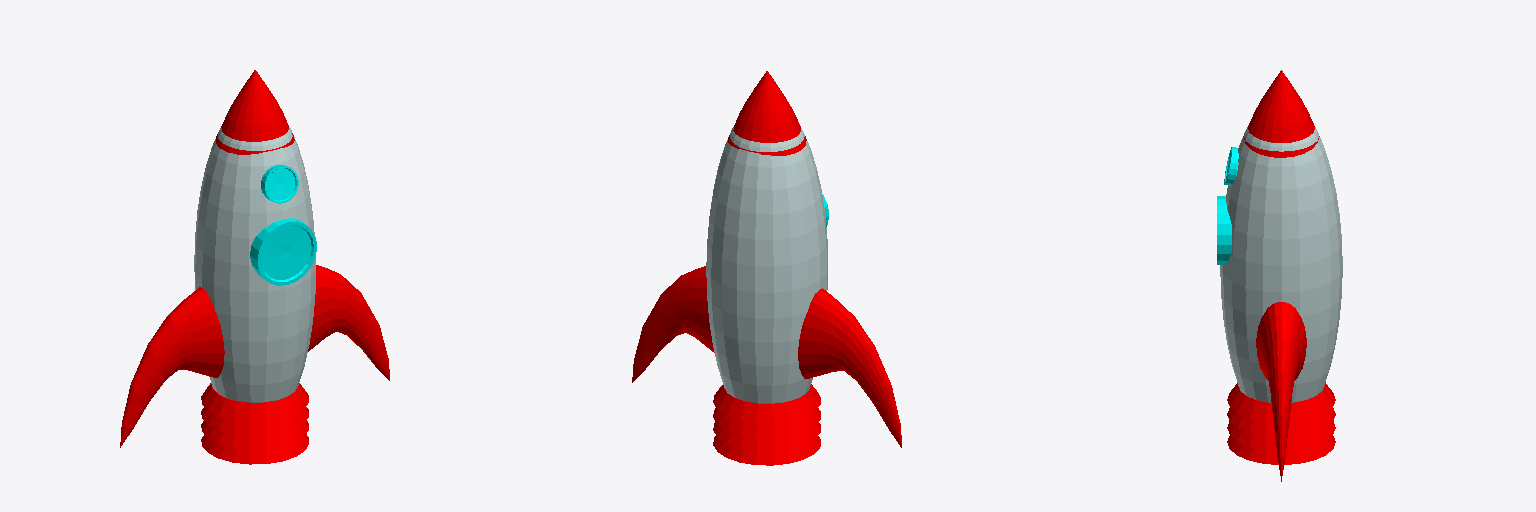
The model's file is cohete.obj.
3 views of the same model, side by side, from view 1: azimuth 30°, elevation 25°; view 2: azimuth 150°, elevation 25°; view 3: azimuth 270°, elevation 25° (orthographic).
Parts seen in each view (by area): view 1: pSphere1, pCone3, pCone2, pCylinder8, pCone1, pCylinder9, pCylinder10, pCylinder5, pCylinder4, pCylinder7; view 2: pSphere1, pCone3, pCone2, pCone1, pCylinder9, pCylinder10, pCylinder5, pCylinder4; view 3: pSphere1, pCone2, pCone1, pCylinder9, pCylinder5, pCylinder10, pCylinder4, pCylinder8.
Boxes of the visible parts, <box> form: pSphere1: <box>194,127,315,402</box>; pCone3: <box>120,287,224,447</box>; pCone2: <box>308,265,389,380</box>; pCylinder8: <box>250,218,316,285</box>; pCone1: <box>216,70,294,154</box>; pCylinder9: <box>201,383,308,421</box>; pCylinder10: <box>201,407,308,436</box>; pCylinder5: <box>201,434,308,464</box>; pCylinder4: <box>201,421,308,449</box>; pCylinder7: <box>261,165,298,203</box>; pSphere1: <box>706,127,827,403</box>; pCone3: <box>798,288,901,447</box>; pCone2: <box>632,266,714,382</box>; pCone1: <box>728,71,806,155</box>; pCylinder9: <box>713,384,820,422</box>; pCylinder10: <box>713,408,820,437</box>; pCylinder5: <box>713,436,820,465</box>; pCylinder4: <box>713,421,820,450</box>; pSphere1: <box>1220,125,1342,402</box>; pCone2: <box>1256,302,1306,481</box>; pCone1: <box>1243,70,1319,157</box>; pCylinder9: <box>1227,383,1335,421</box>; pCylinder5: <box>1227,435,1335,464</box>; pCylinder10: <box>1227,408,1335,436</box>; pCylinder4: <box>1227,421,1335,449</box>; pCylinder8: <box>1217,196,1231,264</box>.
Size of the model in its own units: 5.09 by 6.7 by 2.05.